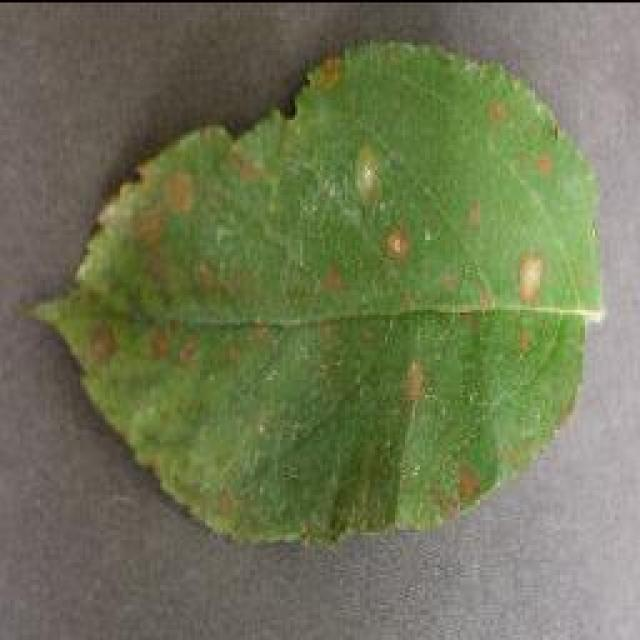apple cedar apple rust: (23, 35, 605, 547)
